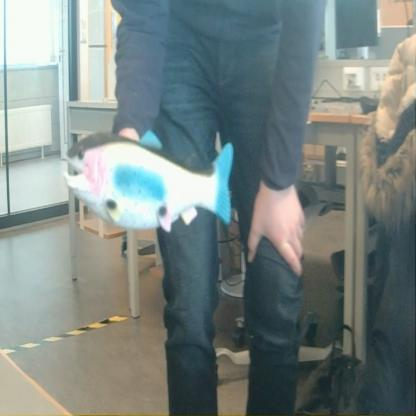rubberfish: (57, 121, 236, 230)
